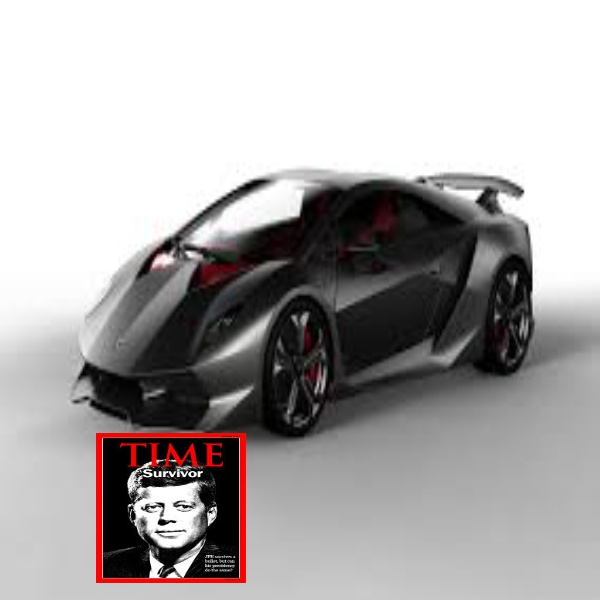time_cover: (90, 428, 254, 589)
